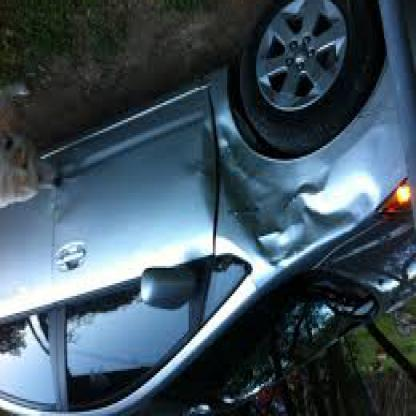dent: (250, 193, 369, 262), (202, 126, 236, 214), (48, 187, 69, 225)
